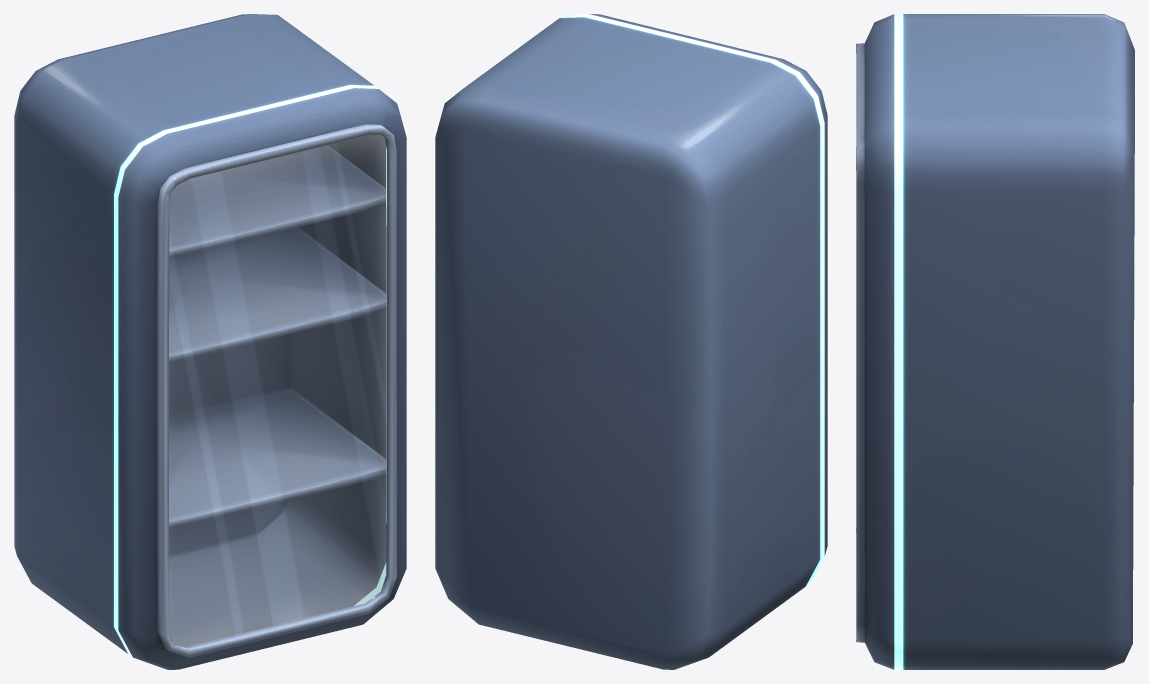
The model's file is obj_fridge01.gltf.
3 renders of one model, left to right at view 1: azimuth 30°, elevation 25°; view 2: azimuth 150°, elevation 25°; view 3: azimuth 270°, elevation 25°, orthographic. The views are drawn at different scales.
Parts seen in each view (by area): view 1: obj_fridge01; view 2: obj_fridge01; view 3: obj_fridge01.
Boxes of the visible parts, x1,y1,x2,y2 form: obj_fridge01: [14, 14, 406, 669]; obj_fridge01: [435, 14, 827, 669]; obj_fridge01: [856, 14, 1134, 669].
Size of what is drawn, in the model's own units: 1.46 by 2.63 by 1.19.
3 materials, 2 textured.
